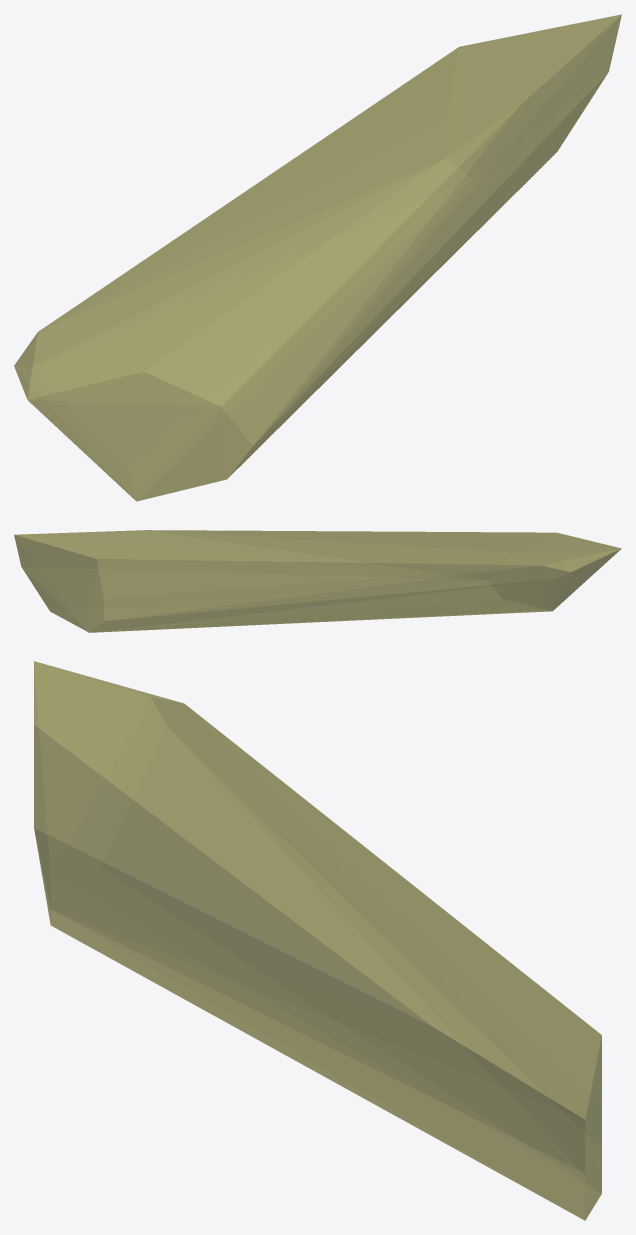
The picture shows the model from 3 angles, top to bottom: view 1: azimuth 30°, elevation 25°; view 2: azimuth 150°, elevation 25°; view 3: azimuth 270°, elevation 25°; orthographic projection. The views are drawn at different scales.
Parts seen in each view (by area): view 1: Shape_IndexedFaceSet.006_Shape_IndexedFaceSet.5897; view 2: Shape_IndexedFaceSet.006_Shape_IndexedFaceSet.5897; view 3: Shape_IndexedFaceSet.006_Shape_IndexedFaceSet.5897.
Part boxes in pixels (x1,y1,x2,y2): Shape_IndexedFaceSet.006_Shape_IndexedFaceSet.5897: [14, 14, 621, 501]; Shape_IndexedFaceSet.006_Shape_IndexedFaceSet.5897: [14, 530, 621, 632]; Shape_IndexedFaceSet.006_Shape_IndexedFaceSet.5897: [34, 661, 601, 1220].
Size of the model in its own units: 0.128 by 0.0197 by 0.067.
